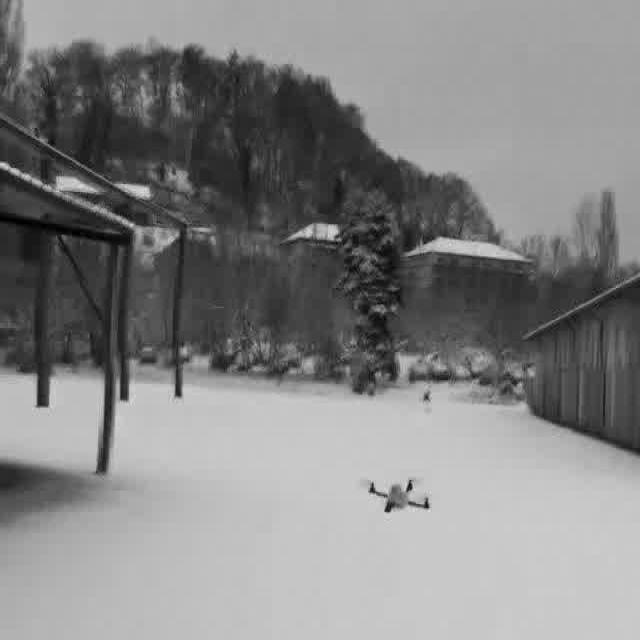drone: (363, 472, 433, 520)
